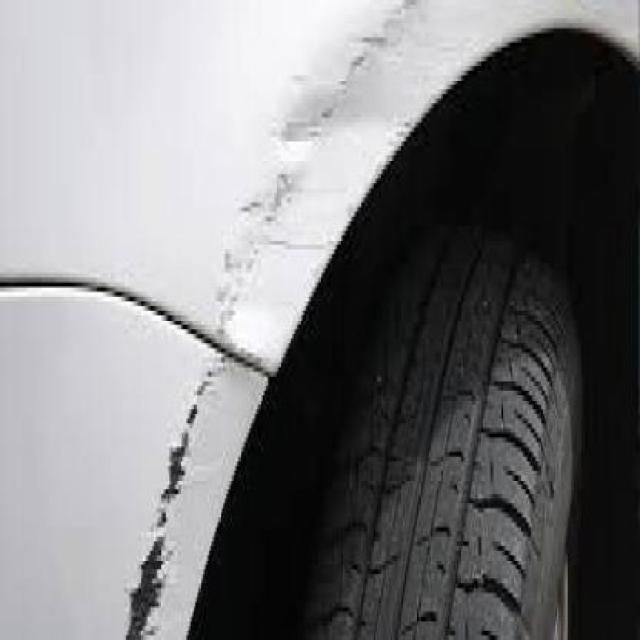scratch: (213, 8, 438, 297), (127, 320, 221, 640)
